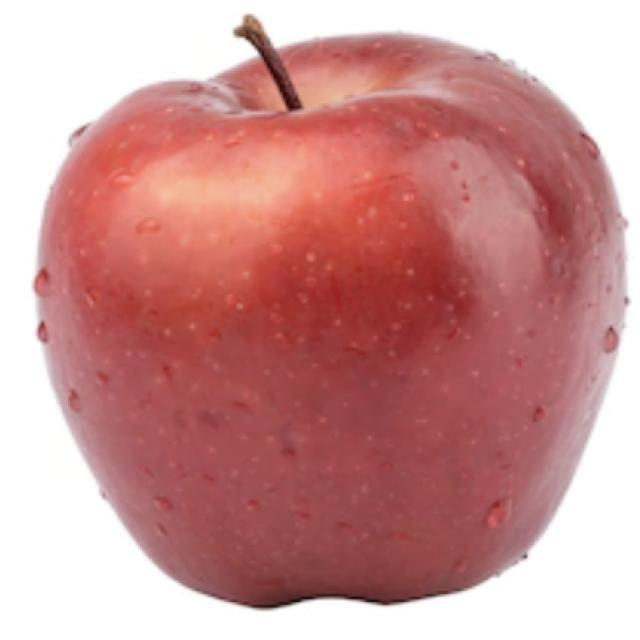Fresh Apple: (40, 46, 622, 596)
